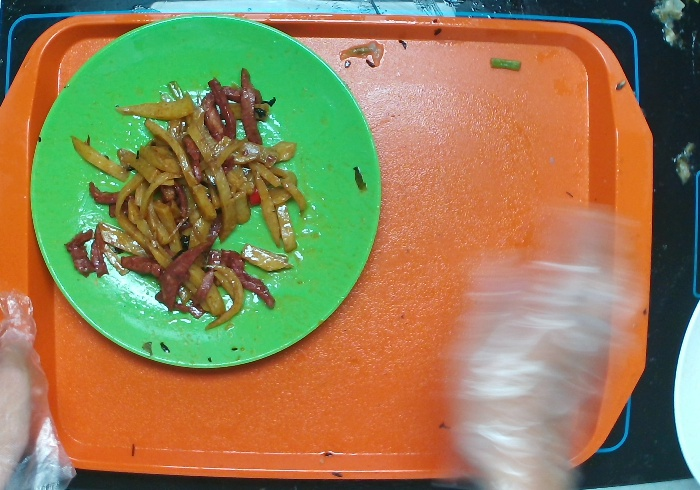HZYJPL-Lv_Se_Yuan_Pan: (27, 16, 384, 369)
